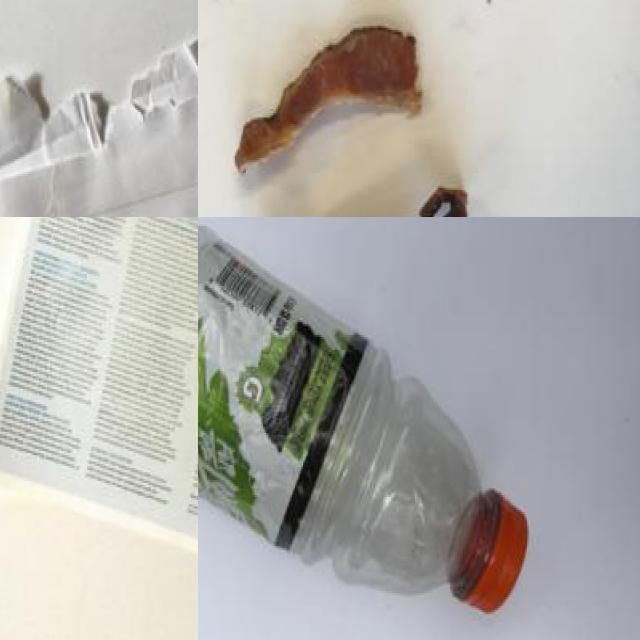compost: (208, 2, 593, 217)
paper: (0, 217, 198, 581), (0, 0, 198, 217)
plastic: (198, 217, 546, 632)
